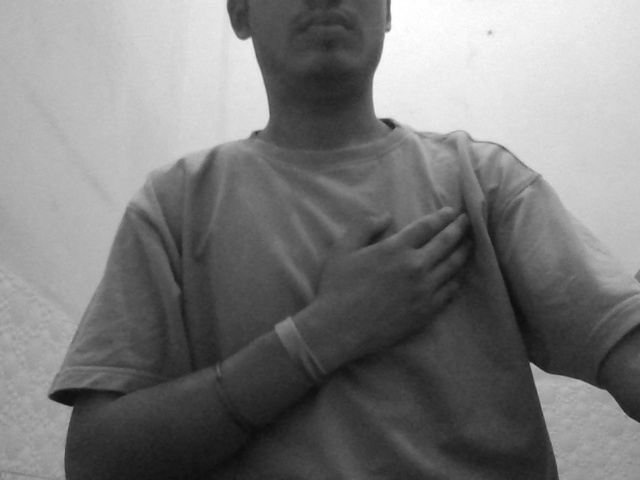Sorry: (299, 191, 529, 357)
